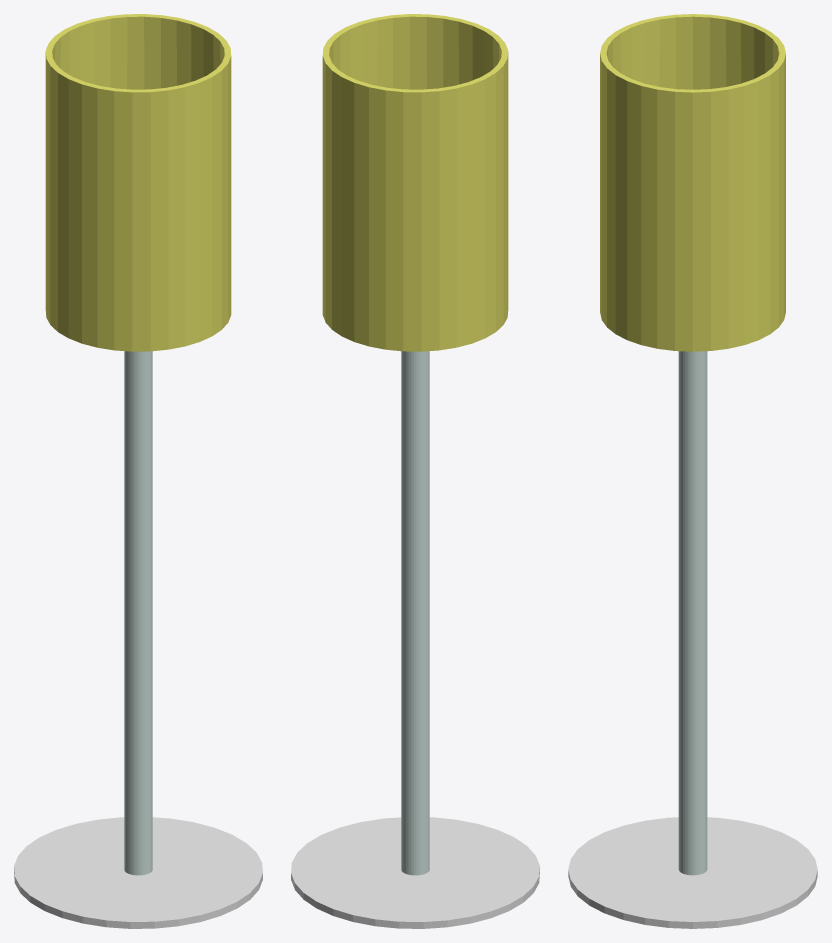
File: Big lamp.fbx
3 renders of one model, left to right at view 1: azimuth 30°, elevation 25°; view 2: azimuth 150°, elevation 25°; view 3: azimuth 270°, elevation 25°, orthographic.
Parts seen in each view (by area): view 1: Lamp, Base, Leg; view 2: Lamp, Base, Leg; view 3: Lamp, Base, Leg.
Part boxes in pixels (bbox=[...]): Lamp: bbox=[45, 14, 231, 351]; Base: bbox=[14, 817, 262, 928]; Leg: bbox=[124, 351, 152, 875]; Lamp: bbox=[322, 14, 508, 351]; Base: bbox=[291, 817, 539, 928]; Leg: bbox=[401, 351, 429, 875]; Lamp: bbox=[600, 14, 785, 351]; Base: bbox=[568, 817, 817, 928]; Leg: bbox=[678, 351, 707, 875].
Size of the model in its own units: 60.81 by 222 by 60.81.
